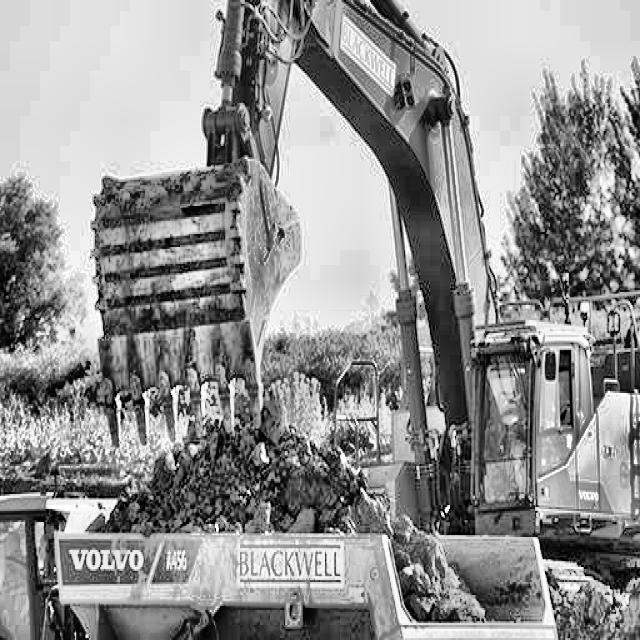dump_truck: (0, 466, 565, 640)
excavator: (77, 0, 640, 556)
